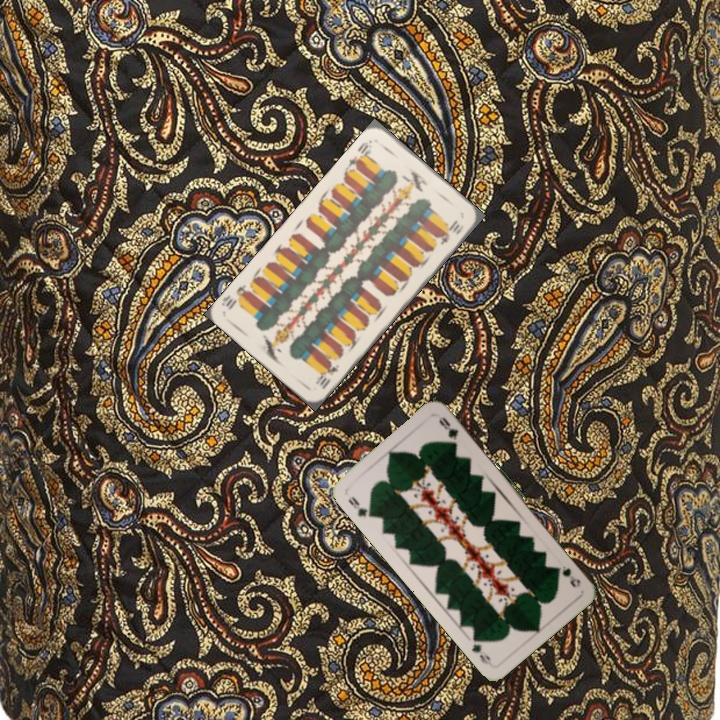E10: (344, 136, 375, 172), (311, 358, 342, 392)
G9: (344, 492, 376, 520), (553, 561, 583, 589)
